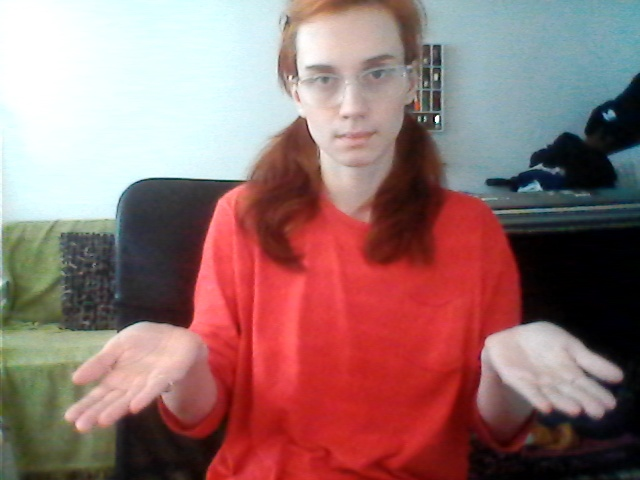alebo: (62, 316, 640, 435)
